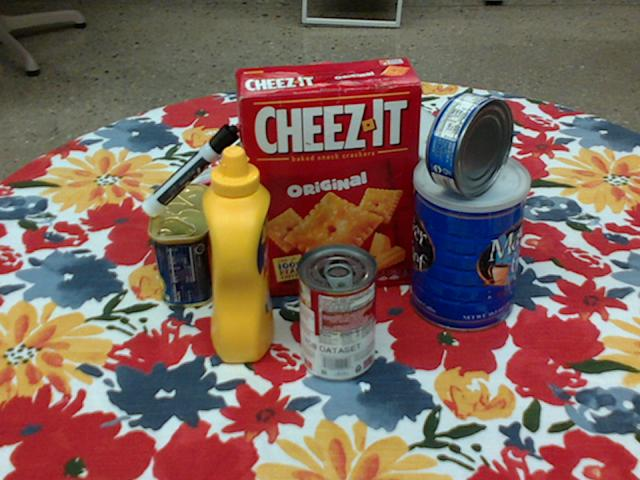cracker_box: (236, 58, 423, 296)
gelatin_box: (168, 159, 253, 248)
large_marker: (142, 123, 240, 216)
master_chef_can: (412, 149, 528, 333)
mug: (318, 122, 402, 220)
mustard_bottle: (202, 146, 272, 363)
potted_meat_can: (148, 183, 214, 308)
sugar_box: (365, 94, 528, 253)
tomato_soup_can: (296, 244, 376, 382)
tuna_fish_can: (428, 92, 514, 197)
